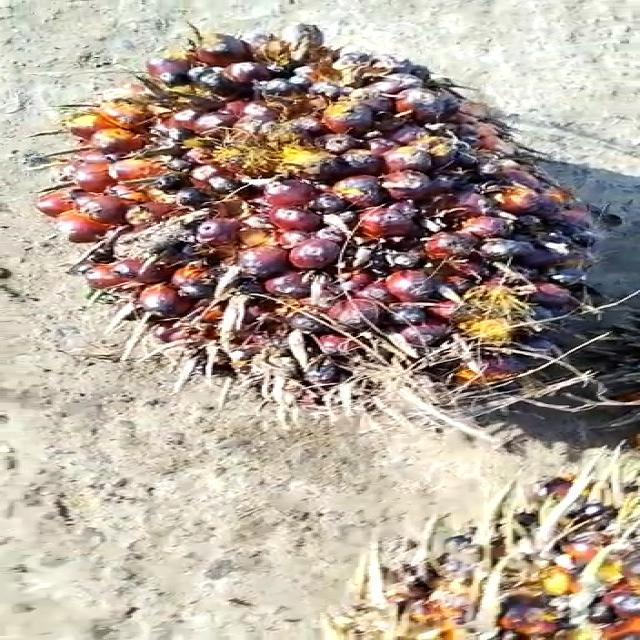palm oil: (56, 28, 585, 426)
